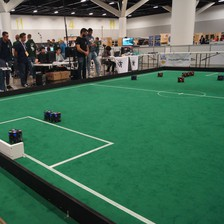robot: (7, 127, 24, 144), (49, 111, 62, 124), (42, 109, 51, 122), (216, 72, 224, 81), (176, 75, 184, 83), (130, 73, 137, 80), (156, 70, 163, 77), (181, 71, 187, 77), (189, 69, 194, 75), (185, 69, 189, 76)
